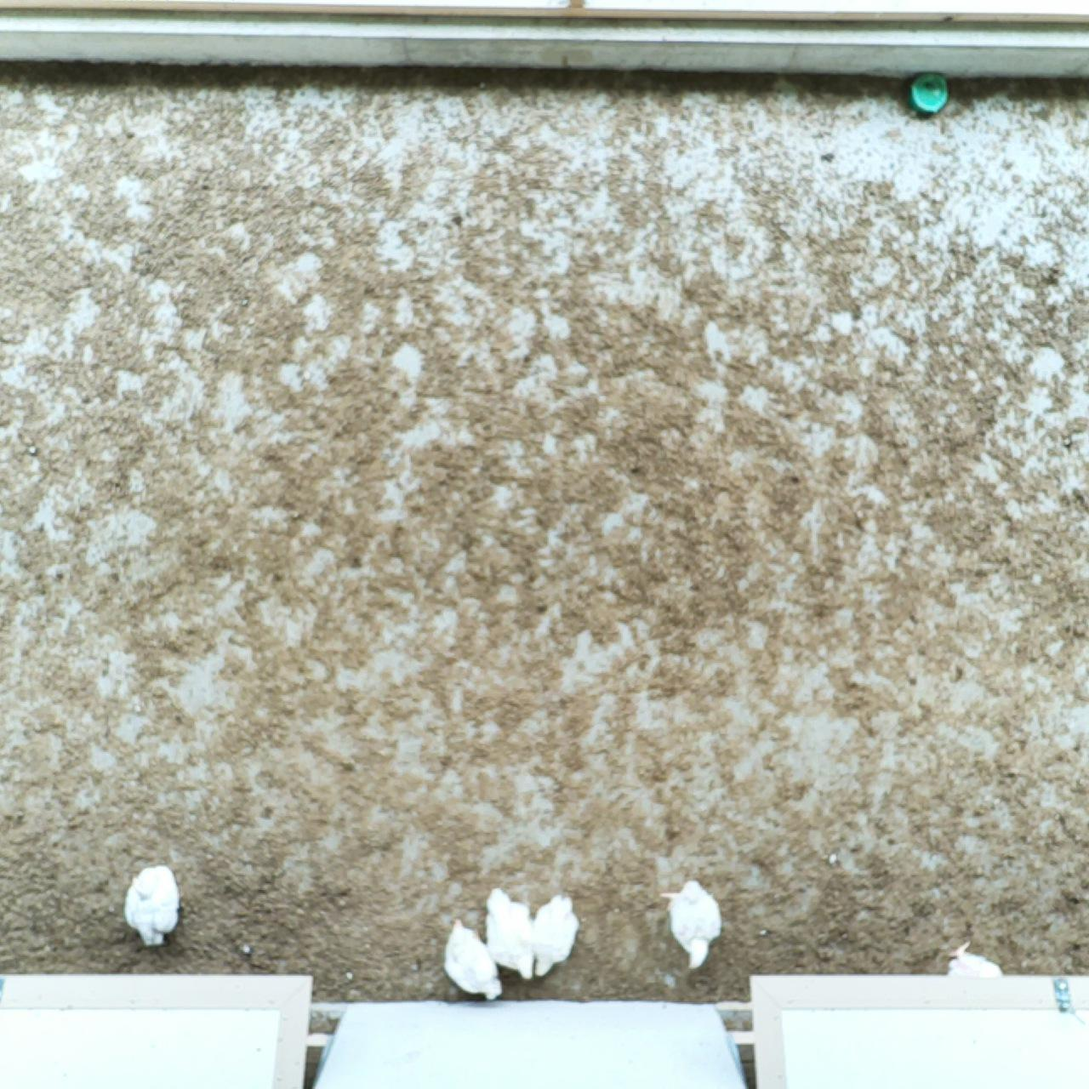chicken: (656, 875, 728, 972), (121, 856, 184, 952), (479, 883, 538, 981), (436, 917, 504, 999), (529, 890, 582, 980), (942, 938, 1009, 985)
